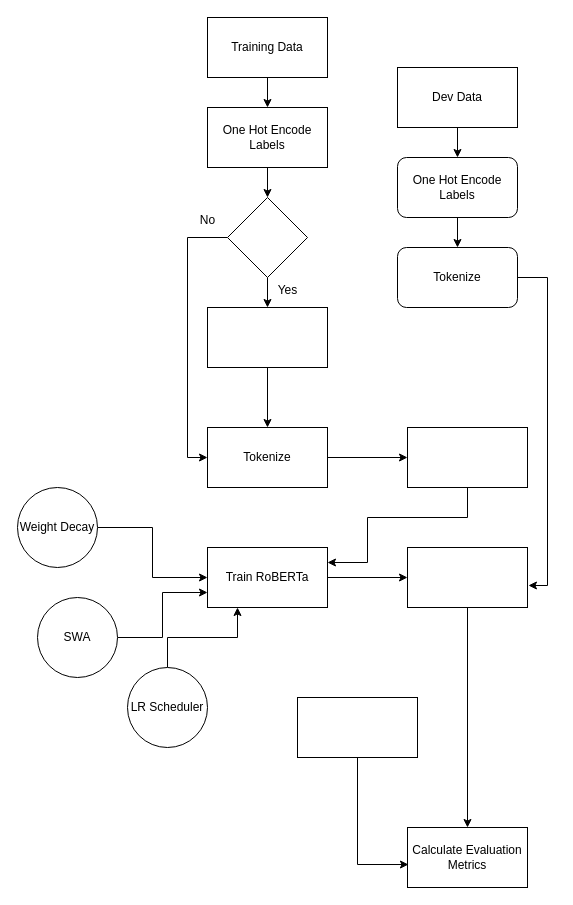
Image size: 573x905. Some labels were removed from this diagram. The shapes that lost their labels are listed below. From the top down, each one's centre as x and y in pixels, then its label:
At pixel 267 237: "Paraphrase?".
At pixel 267 337: "Paraphrase".
At pixel 467 457: "Add Class weights".
At pixel 467 577: "Find threshold for labels using dev data and the model".
At pixel 357 727: "Test Data".
